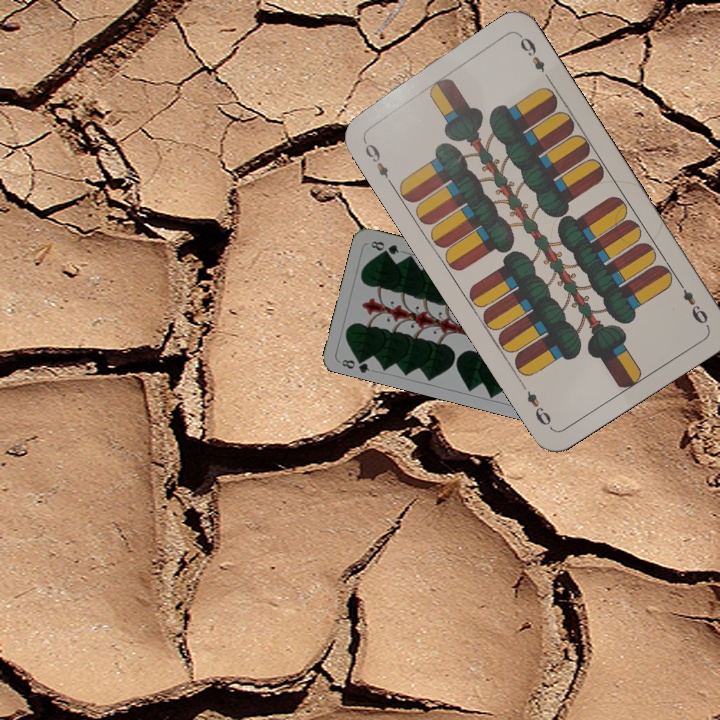E9: (358, 133, 396, 187), (673, 276, 711, 327)
G8: (338, 352, 372, 375)
